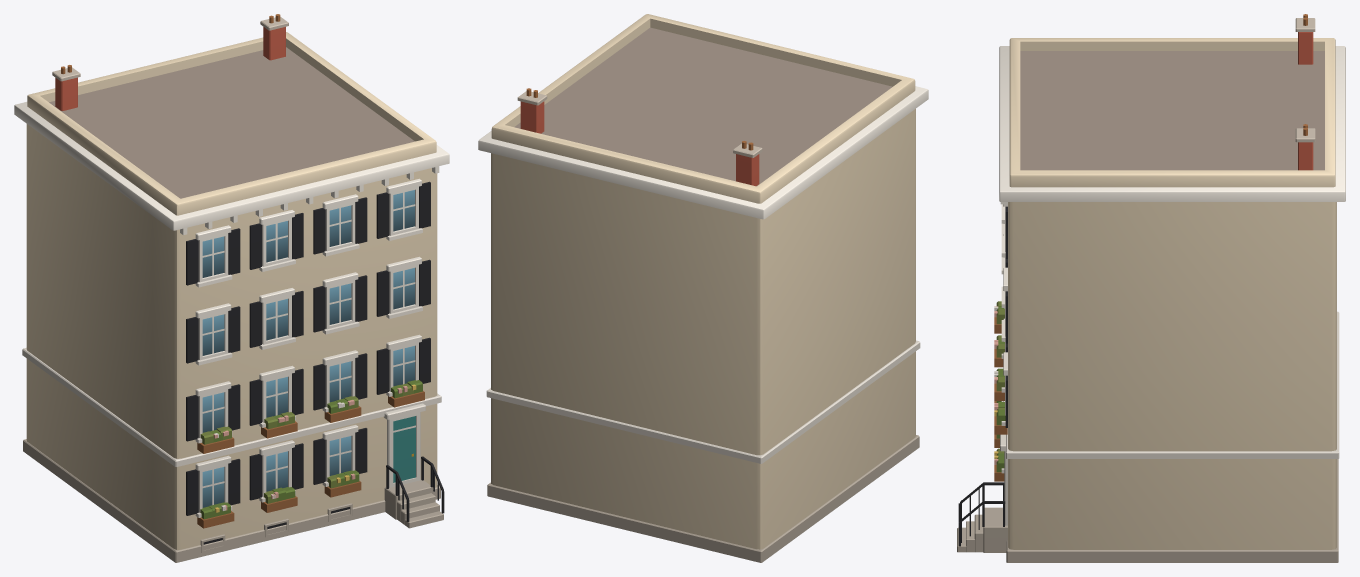
Rendered from tremont_n1.glb.
The picture shows the model from 3 angles, left to right: view 1: azimuth 30°, elevation 25°; view 2: azimuth 150°, elevation 25°; view 3: azimuth 270°, elevation 25°; orthographic projection. The views are drawn at different scales.
Visible parts, largest first — view 1: tremont_n1; view 2: tremont_n1; view 3: tremont_n1.
Part boxes in pixels (box(x1,y1,x2,y2)): tremont_n1: box(14, 14, 449, 562); tremont_n1: box(478, 14, 928, 562); tremont_n1: box(957, 14, 1345, 562).
Size of the model in its own units: 12.64 by 16.94 by 14.18.
Materials: 1 (1 with a texture image).
